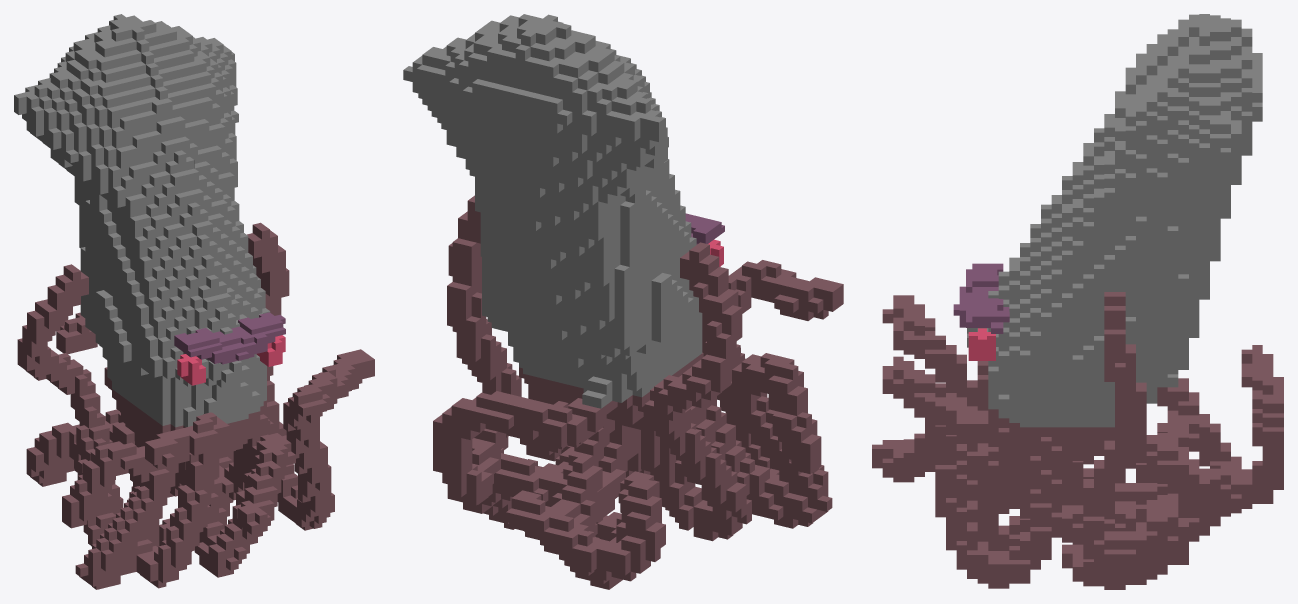
The model's file is Kraken.fbx.
3 views of the same model, side by side, from view 1: azimuth 30°, elevation 25°; view 2: azimuth 150°, elevation 25°; view 3: azimuth 270°, elevation 25° (orthographic). The views are drawn at different scales.
Visible parts, largest first — view 1: Kraken; view 2: Kraken; view 3: Kraken.
Boxes of the visible parts, left/top/right/bottom form: Kraken: left=14, top=14, right=374, bottom=589; Kraken: left=403, top=14, right=843, bottom=589; Kraken: left=872, top=14, right=1283, bottom=589.
Size of the model in its own units: 495 by 807 by 552.
